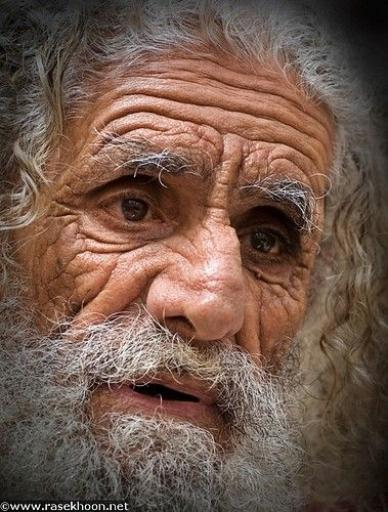left_eye: (239, 224, 298, 265)
left_lip_corner: (193, 389, 215, 411)
right_eye: (93, 191, 172, 227)
